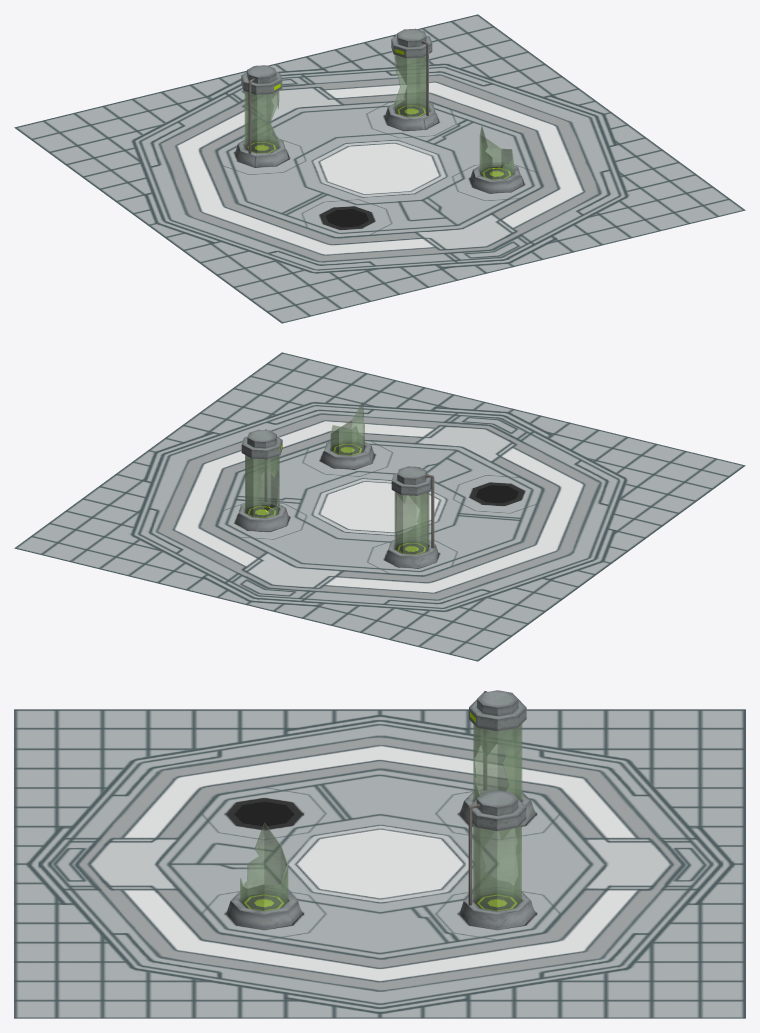
File: Planttile_M4.fbx
The picture shows the model from 3 angles, top to bottom: view 1: azimuth 30°, elevation 25°; view 2: azimuth 150°, elevation 25°; view 3: azimuth 270°, elevation 25°; orthographic projection. The views are drawn at different scales.
Parts seen in each view (by area): view 1: Plant_Floor, Plant_Obj003, Plant_Obj1, Plant_Obj2; view 2: Plant_Floor, Plant_Obj1, Plant_Obj003, Plant_Obj2; view 3: Plant_Floor, Plant_Obj003, Plant_Obj1, Plant_Obj2.
Part boxes in pixels (left/top/right/bottom): Plant_Floor: left=14, top=14, right=745, bottom=323; Plant_Obj003: left=385, top=28, right=438, bottom=130; Plant_Obj1: left=235, top=65, right=288, bottom=166; Plant_Obj2: left=470, top=126, right=523, bottom=192; Plant_Floor: left=14, top=352, right=745, bottom=661; Plant_Obj1: left=385, top=466, right=438, bottom=568; Plant_Obj003: left=235, top=429, right=288, bottom=531; Plant_Obj2: left=321, top=402, right=374, bottom=468; Plant_Floor: left=14, top=709, right=745, bottom=1018; Plant_Obj003: left=459, top=790, right=535, bottom=929; Plant_Obj1: left=460, top=690, right=535, bottom=825; Plant_Obj2: left=226, top=822, right=302, bottom=929.
Bounding box in the file's own units: 750 × 130 × 750.
Materials: 3 (3 with a texture image).
